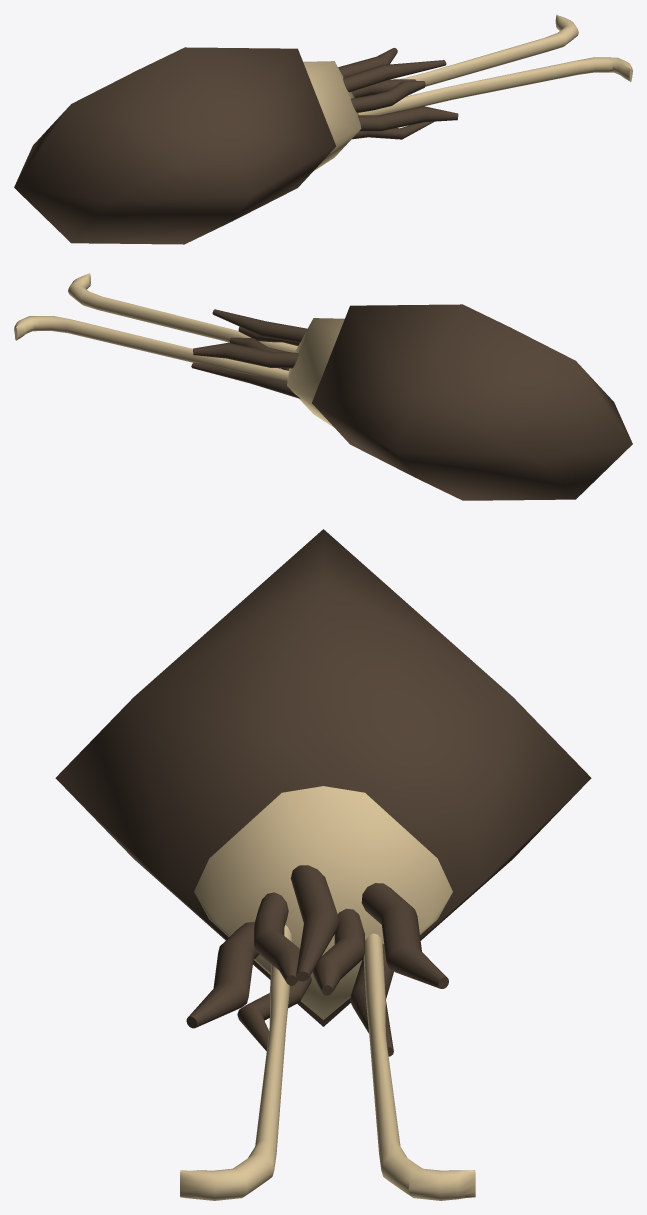
The model's file is 9LEHkOtRl-q.glb.
3 views of the same model, one above another, from view 1: azimuth 30°, elevation 25°; view 2: azimuth 150°, elevation 25°; view 3: azimuth 270°, elevation 25° (orthographic). The views are drawn at different scales.
Parts seen in each view (by area): view 1: GeoSphere001, GeoSphere002; view 2: GeoSphere001, GeoSphere002; view 3: GeoSphere001, GeoSphere002.
Part boxes in pixels (left/top/right/bottom): GeoSphere001: left=14, top=47, right=458, bottom=244; GeoSphere002: left=303, top=14, right=632, bottom=170; GeoSphere001: left=191, top=304, right=632, bottom=500; GeoSphere002: left=14, top=273, right=344, bottom=427; GeoSphere001: left=55, top=529, right=591, bottom=1056; GeoSphere002: left=180, top=786, right=475, bottom=1200.
Size of the model in its own units: 3.13 by 0.9999 by 1.24.
